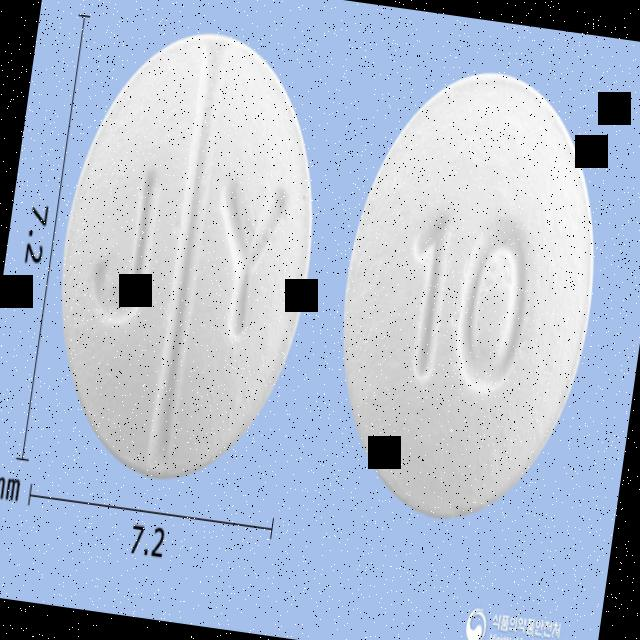Durova - 20mg: (33, 13, 343, 496), (315, 56, 621, 534)
